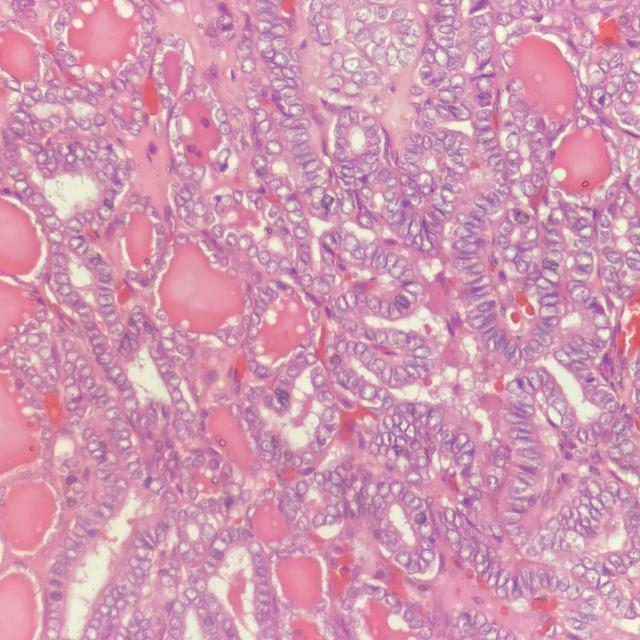TC: (302, 304, 326, 327), (222, 328, 243, 353), (272, 371, 297, 392), (405, 331, 427, 354), (375, 325, 392, 354), (149, 299, 171, 321), (155, 322, 177, 343), (394, 287, 418, 306), (332, 334, 350, 359), (170, 230, 193, 249), (358, 379, 377, 401), (285, 209, 308, 227), (236, 231, 254, 253), (299, 269, 317, 291), (263, 277, 281, 299), (459, 270, 484, 285), (469, 291, 491, 308), (357, 212, 376, 231), (398, 265, 417, 284), (255, 246, 273, 266), (165, 370, 183, 390), (411, 211, 423, 241), (343, 289, 359, 311), (355, 337, 369, 360), (372, 357, 386, 379), (367, 292, 381, 314), (292, 352, 310, 369), (350, 244, 367, 262), (308, 371, 325, 389), (192, 199, 208, 218), (467, 314, 486, 330), (384, 250, 397, 272), (195, 237, 210, 253)
